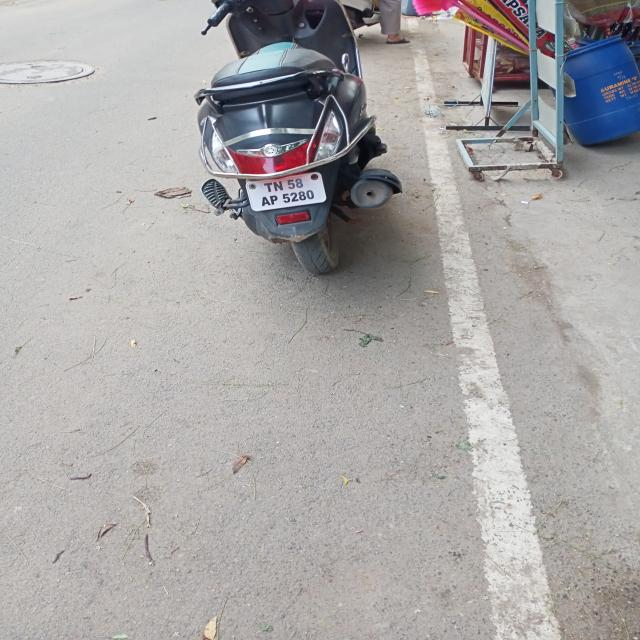Number_Plate_Detected: (241, 170, 329, 214)
